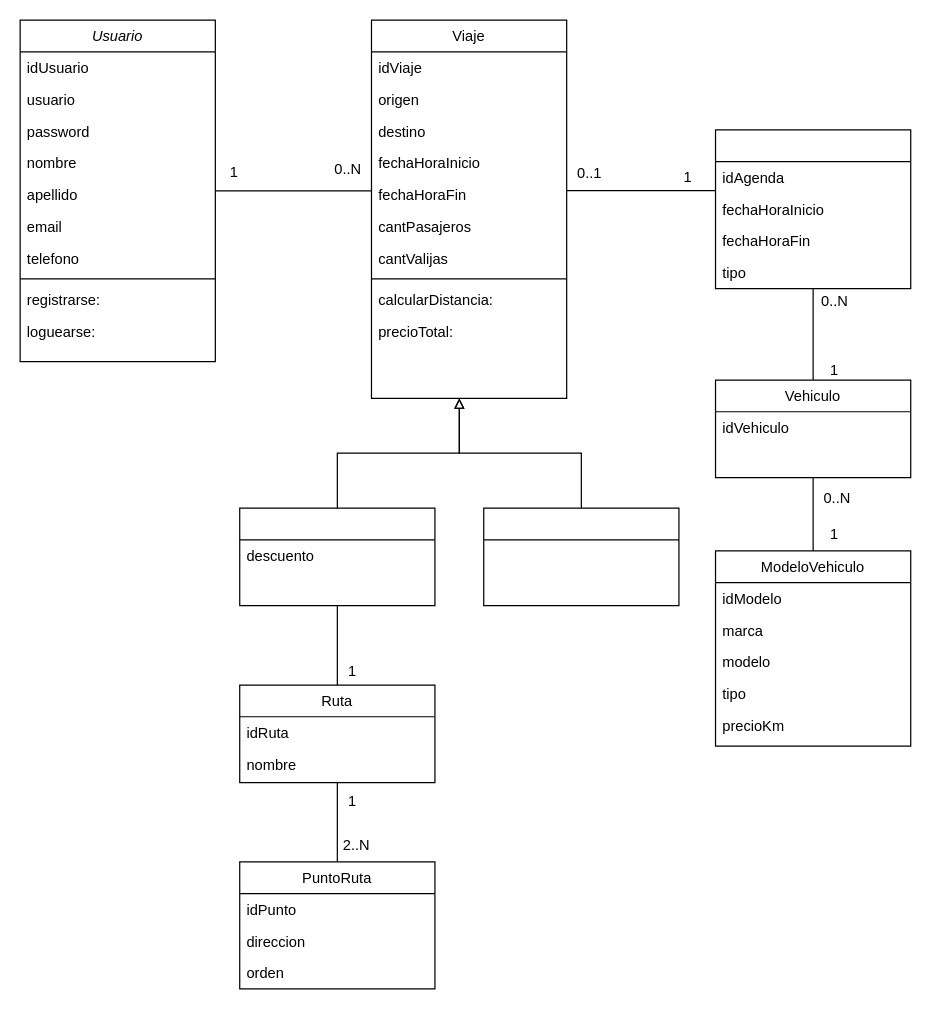
This 931x1009 diagram has some shape labels left out. Each missing label, with the box of its shape:
AgendaVehiculo: (714, 129, 911, 289)
Compartido: (239, 507, 435, 606)
Privado: (483, 507, 679, 606)
